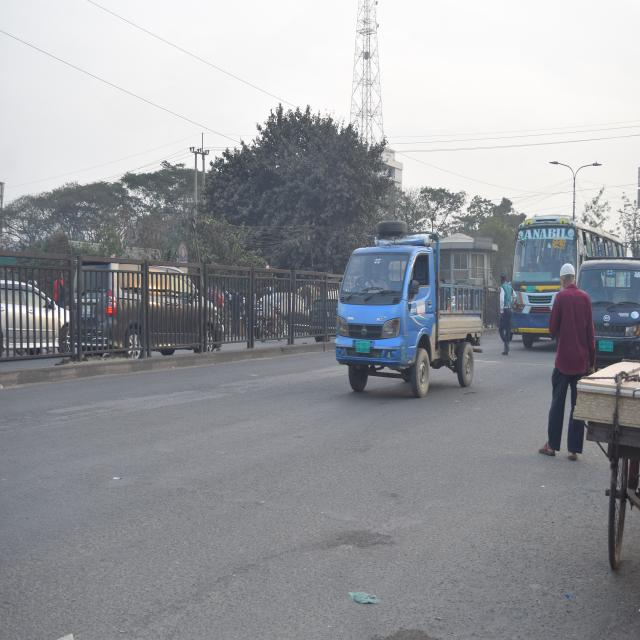bus: (512, 209, 622, 330)
car: (68, 261, 217, 354), (0, 270, 68, 370)
microbus: (580, 257, 640, 386)
pickup-van: (325, 225, 482, 400)
